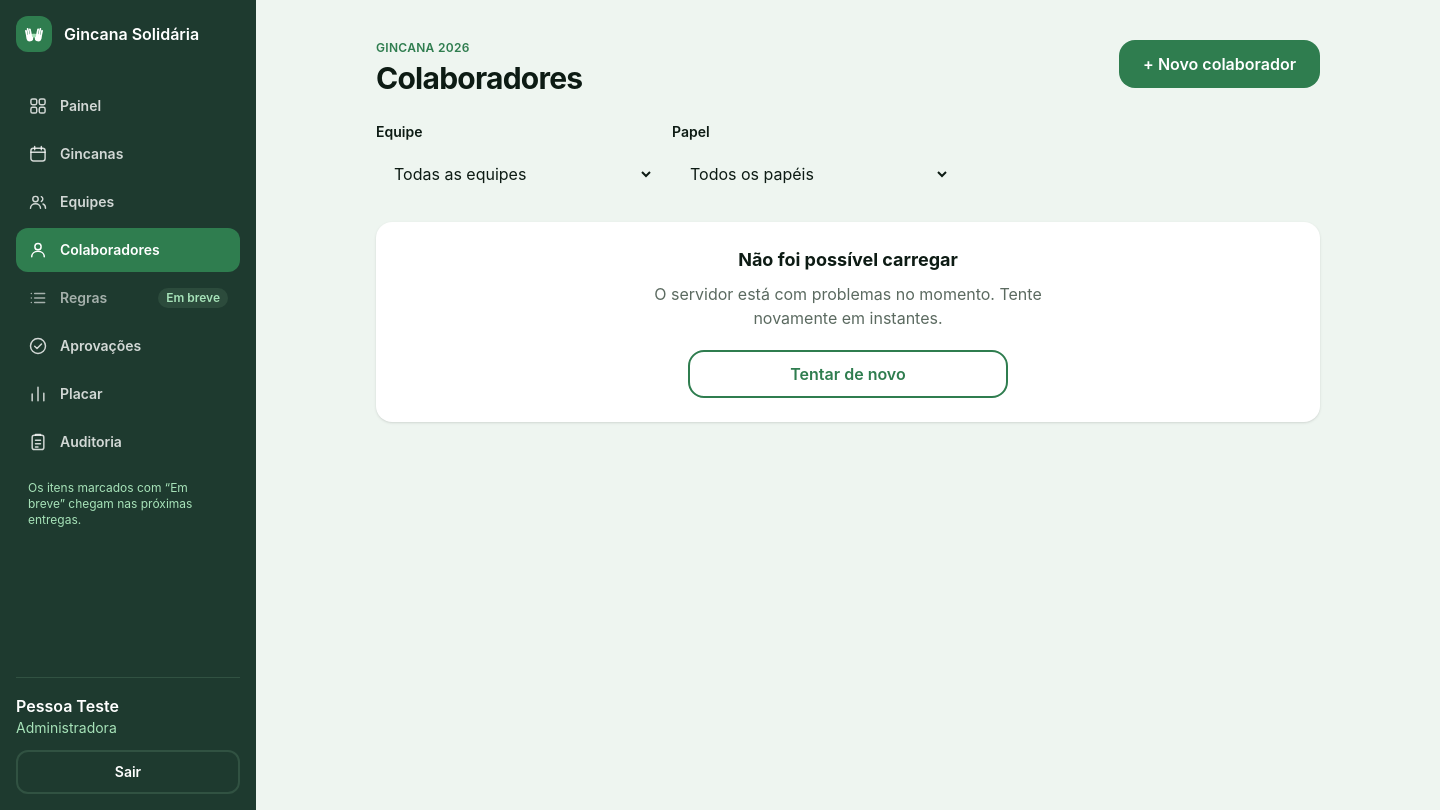
Scenario: Colaboradores (US03) › lista e filtros › avisa em português quando a lista não carrega e permite tentar de novo
Check: the message shows "servidor está com problemas", box left=654, top=284, right=1042, bottom=328
Click the button "Tentar de novo": (848, 374) left=688, top=350, right=1008, bottom=398
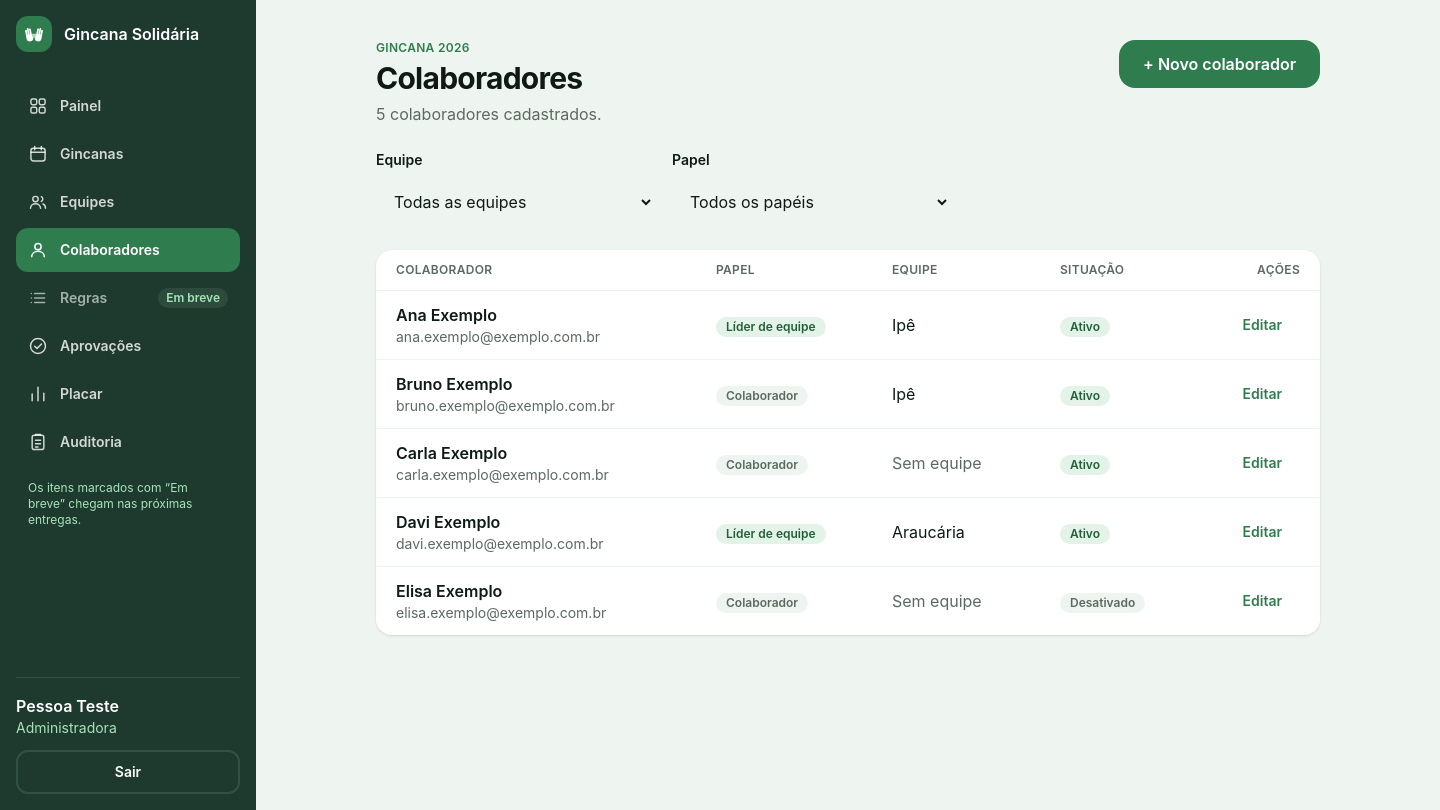
Check: the table named "Colaboradores cadastrados" is shown, box left=376, top=250, right=1320, bottom=634
